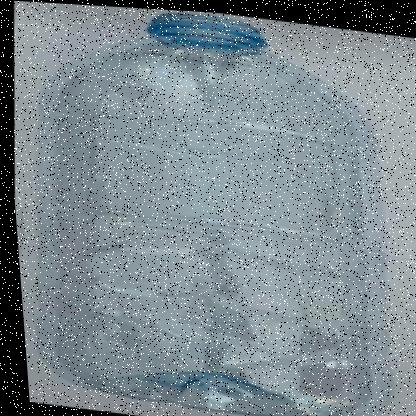open bottle: (20, 2, 399, 154)
